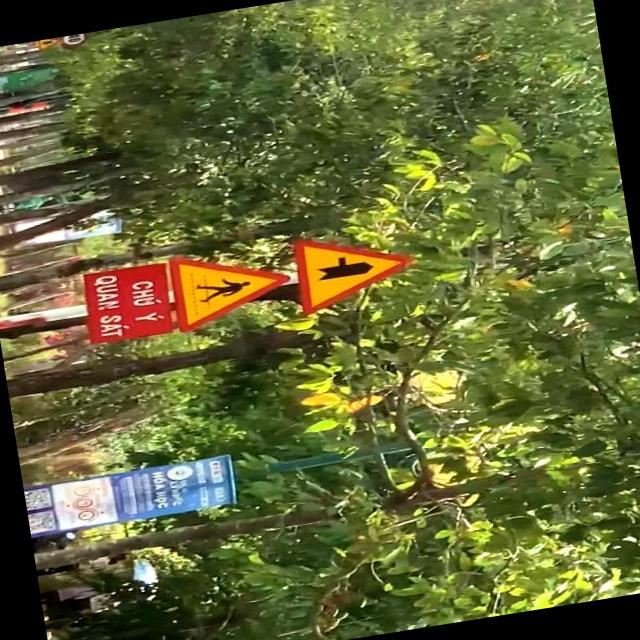W-207c: (290, 219, 420, 315)
W-224: (166, 237, 298, 332)
